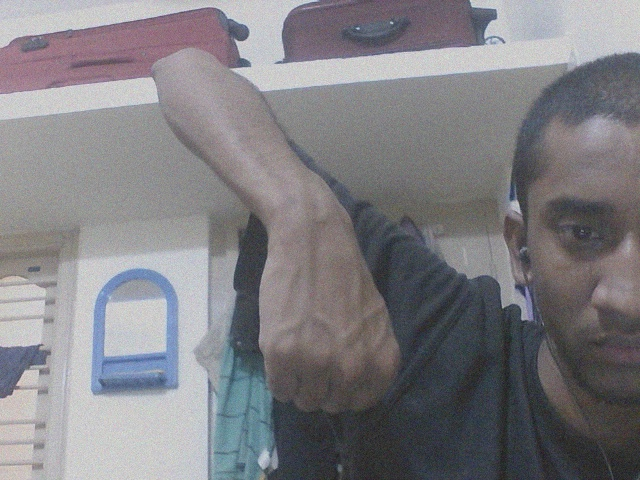hand: (253, 215, 407, 417)
